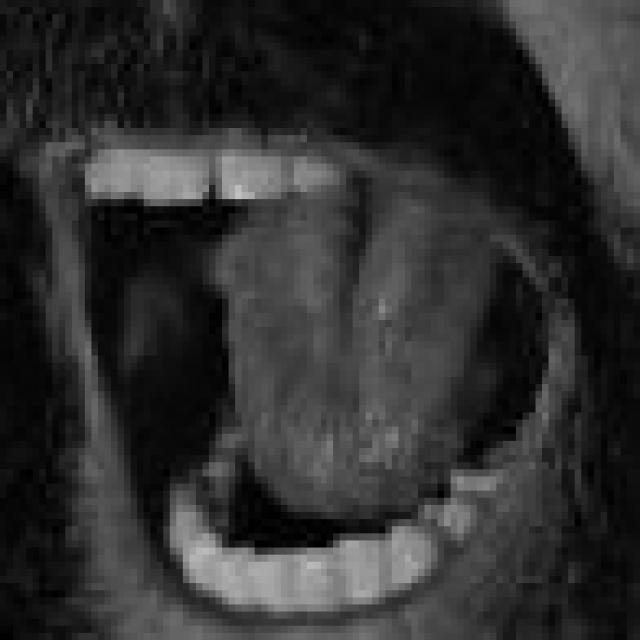open-mouth: (46, 114, 574, 626)
